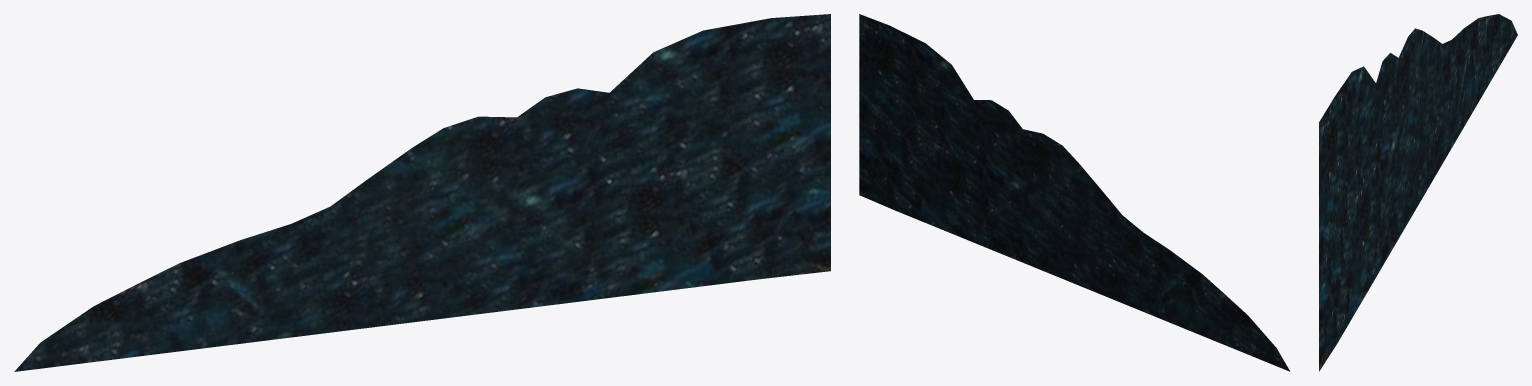
File: shan12.fbx
The picture shows the model from 3 angles, left to right: view 1: azimuth 30°, elevation 25°; view 2: azimuth 150°, elevation 25°; view 3: azimuth 270°, elevation 25°; orthographic projection. The views are drawn at different scales.
Visible parts, largest first — view 1: shan12; view 2: shan12; view 3: shan12.
Part boxes in pixels (box(x1,y1,x2,y2)): shan12: box(14, 14, 830, 371); shan12: box(859, 14, 1290, 371); shan12: box(1319, 14, 1517, 371).
Bounding box in the file's own units: 19.55 × 6.82 × 4.86.
